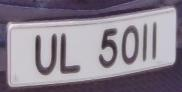0: (121, 20, 142, 70)
1: (148, 16, 162, 65), (139, 17, 152, 67)
5: (96, 21, 121, 75)
L: (57, 28, 87, 79)
U: (31, 30, 61, 80)
